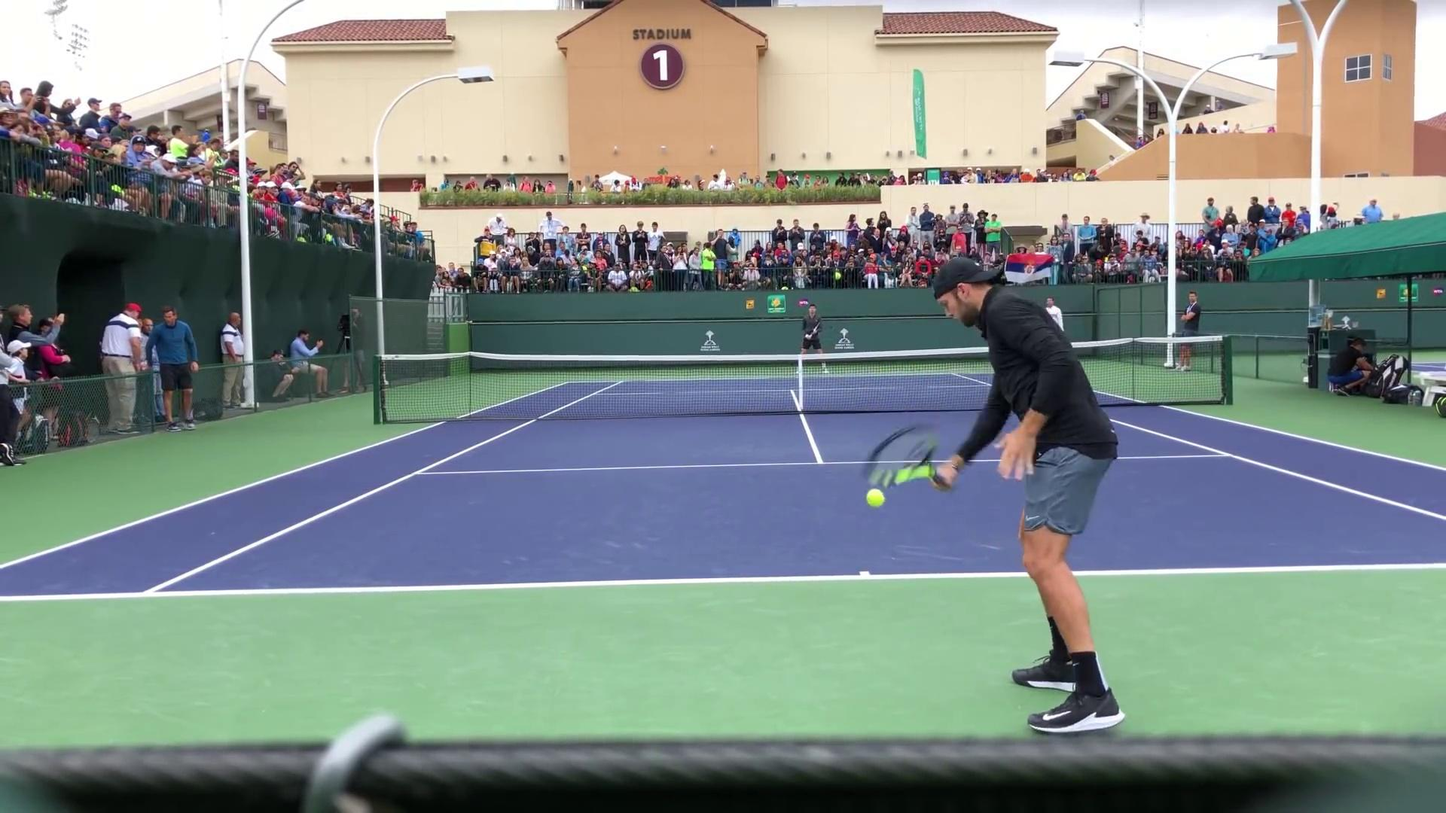ball: (866, 488, 888, 509)
